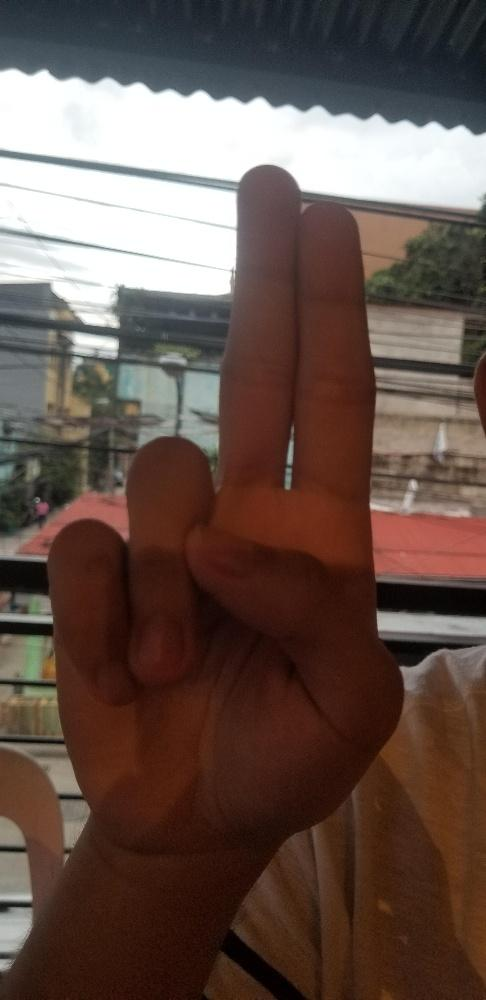u: (47, 162, 406, 845)
